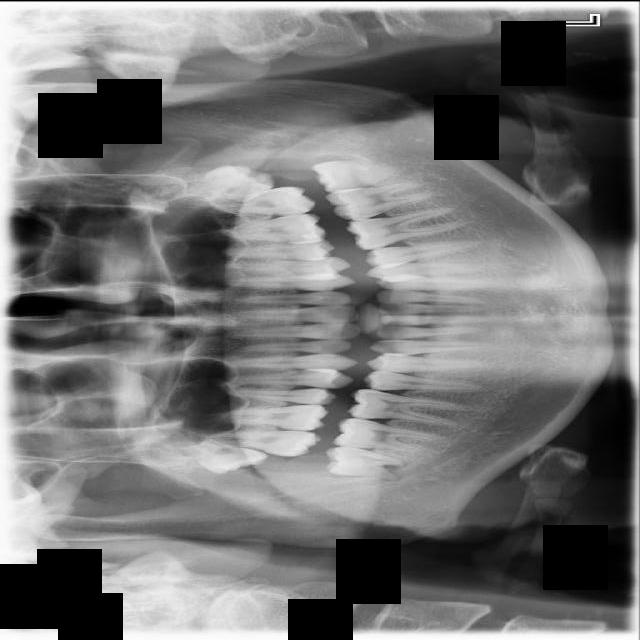3M ESPE Implant: (177, 434, 271, 482)
73: (568, 25, 577, 30)
BioHorizons Implant: (207, 184, 316, 218)
BioLife Implant: (180, 160, 276, 207)
Biomet 3i Implant: (310, 150, 400, 197)
Blue Sky Bio Implant: (325, 178, 433, 224)
Caries: (202, 429, 322, 455)
Implant: (332, 413, 442, 465)
Keystone Dental Implant: (324, 444, 406, 481)
